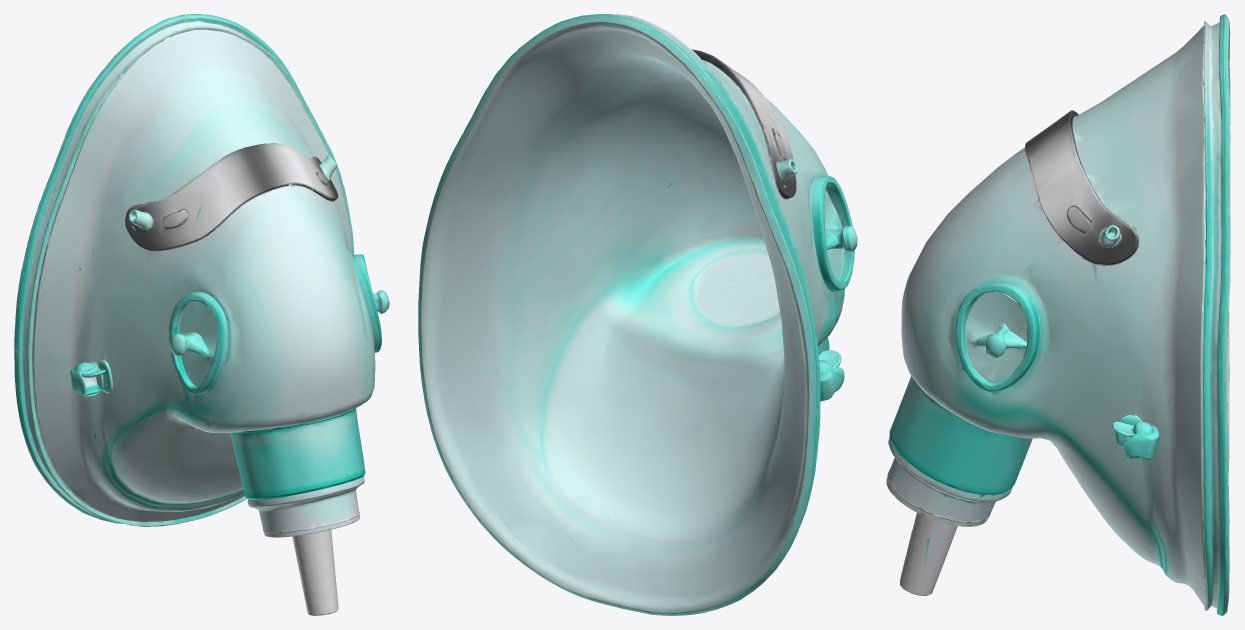
The picture shows the model from 3 angles, left to right: view 1: azimuth 30°, elevation 25°; view 2: azimuth 150°, elevation 25°; view 3: azimuth 270°, elevation 25°; orthographic projection. The views are drawn at different scales.
Visible parts, largest first — view 1: o2; view 2: o2; view 3: o2.
Part boxes in pixels (x1,y1,x2,y2): o2: (14, 14, 389, 615); o2: (418, 14, 857, 615); o2: (886, 14, 1230, 615).
Size of the model in its own units: 1.34 by 1.9 by 1.05.
Materials: 1 (1 with a texture image).
